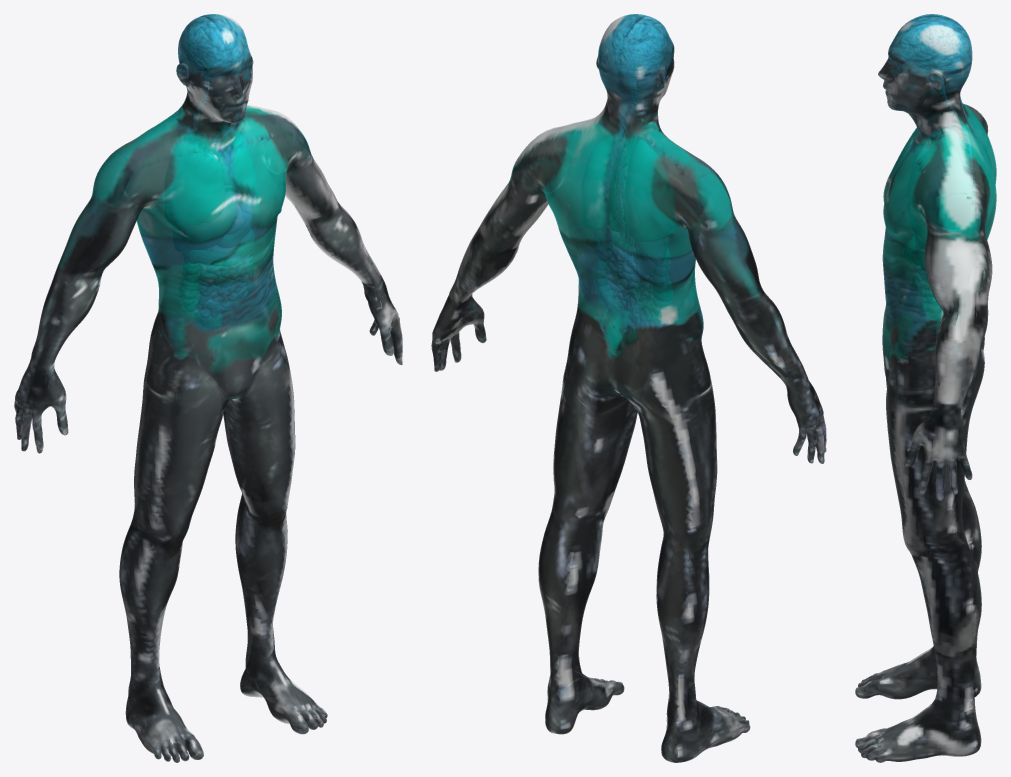
Rendered from FullHuman_01.glb.
3 views of the same model, side by side, from view 1: azimuth 30°, elevation 25°; view 2: azimuth 150°, elevation 25°; view 3: azimuth 270°, elevation 25° (orthographic).
Visible parts, largest first — view 1: FinalBaseMesh, Pleura, Spinal dura, Jejunum, Liver, Ascending colon, Transverse colon; view 2: FinalBaseMesh, Pleura, Spinal dura, Jejunum, Ascending colon, Sigmoid colon, Descending colon; view 3: FinalBaseMesh, Pleura, Spinal dura, Descending colon, Jejunum, Transverse colon.
Boxes of the visible parts, x1,y1,x2,y2 form: FinalBaseMesh: (14, 14, 402, 762); Pleura: (164, 125, 259, 226); Spinal dura: (185, 23, 239, 133); Jejunum: (192, 253, 249, 317); Liver: (173, 192, 249, 251); Ascending colon: (180, 250, 199, 312); Transverse colon: (197, 230, 253, 266); FinalBaseMesh: (431, 14, 826, 762); Pleura: (580, 133, 676, 241); Spinal dura: (611, 24, 665, 239); Jejunum: (607, 245, 656, 325); Ascending colon: (651, 249, 672, 315); Sigmoid colon: (608, 310, 631, 356); Descending colon: (595, 240, 623, 317); FinalBaseMesh: (855, 14, 996, 762); Pleura: (906, 128, 974, 241); Spinal dura: (900, 22, 971, 182); Descending colon: (921, 254, 942, 323); Jejunum: (914, 265, 933, 322); Transverse colon: (904, 236, 924, 265).
Size of the model in its own units: 1.28 by 2.27 by 0.4112.
3 materials, 1 textured.
